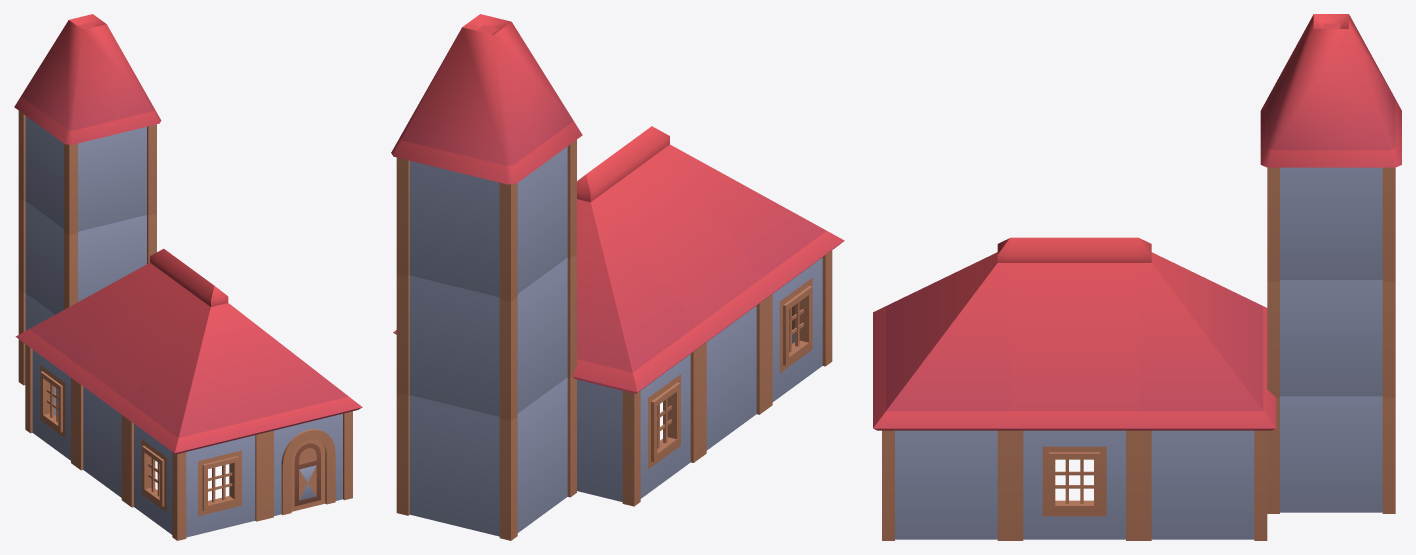
Rendered from shrine.glb.
3 views of the same model, side by side, from view 1: azimuth 30°, elevation 25°; view 2: azimuth 150°, elevation 25°; view 3: azimuth 270°, elevation 25° (orthographic). The views are drawn at different scales.
Visible parts, largest first — view 1: shrine; view 2: shrine; view 3: shrine.
Part boxes in pixels (x1,y1,x2,y2): shrine: (14,14,362,540); shrine: (391,14,844,540); shrine: (873,14,1401,540).
Bounding box in the file's own units: 6.42 × 12 × 12.36.
29 materials, 29 textured.
